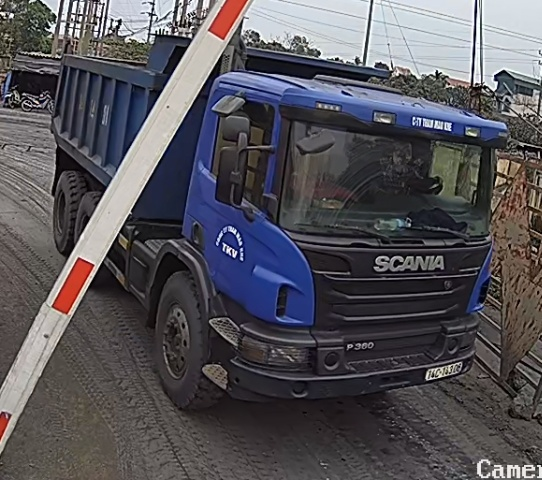vehicle plate: (421, 360, 480, 384)
